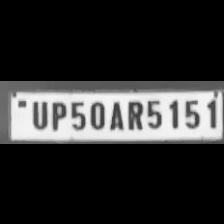0: (86, 97, 108, 128)
1: (200, 97, 220, 129), (164, 97, 182, 129)
5: (180, 96, 202, 128), (144, 96, 164, 130), (66, 98, 86, 130)
A: (106, 98, 124, 130)
P: (47, 98, 66, 130)
R: (124, 97, 142, 131)
U: (27, 97, 49, 128)
